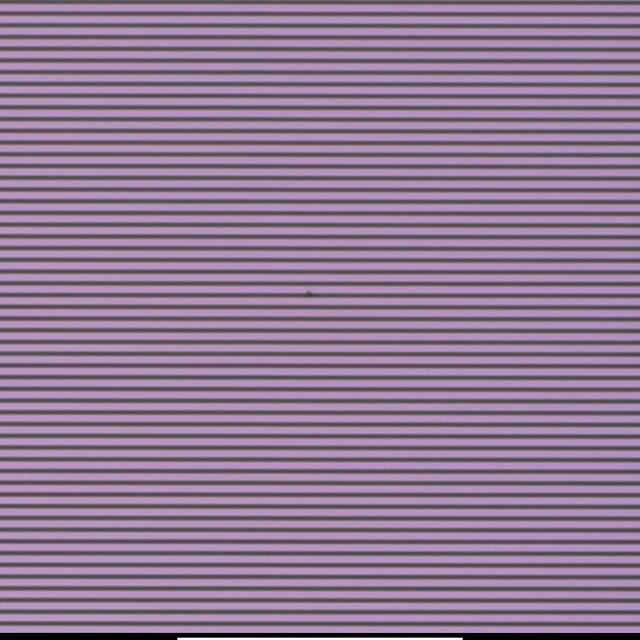03_intrusion: (298, 283, 317, 302)
